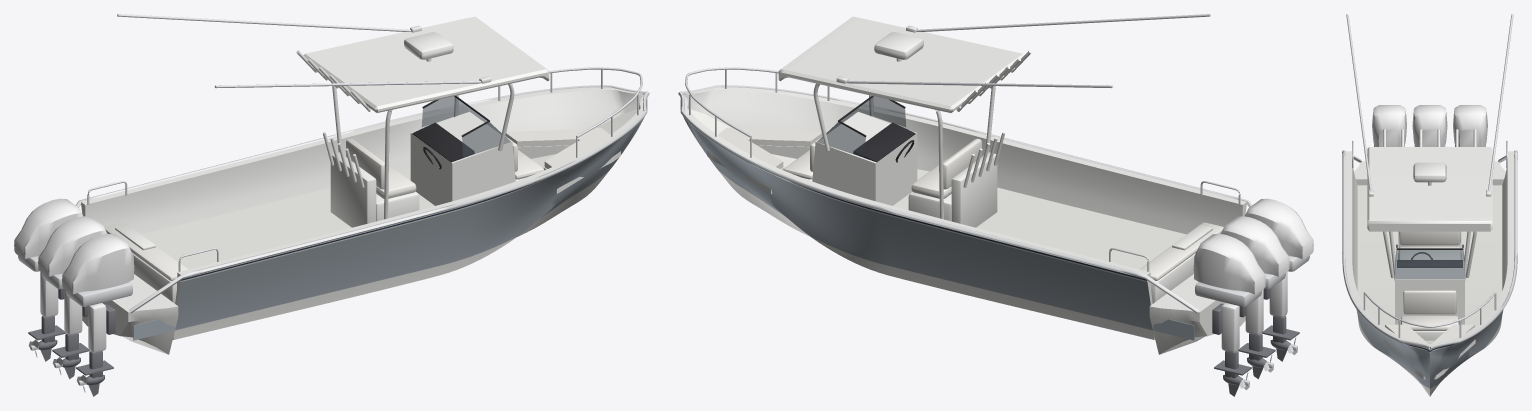
File: dad-big-boat.glb
3 renders of one model, left to right at view 1: azimuth 30°, elevation 25°; view 2: azimuth 150°, elevation 25°; view 3: azimuth 270°, elevation 25°, orthographic. The views are drawn at different scales.
Parts seen in each view (by area): view 1: hull, canopy, console, outboard_stbd_cowl, bracket, rub_rail_-1, tackle_station, outboard_cowl, outboard_port_cowl, windshield, rub_rail_1, console_dash (+15 smaller); view 2: hull, canopy, console, outboard_port_cowl, bracket, rub_rail_1, tackle_station, outboard_cowl, outboard_stbd_cowl, windshield, rub_rail_-1, console_dash (+15 smaller); view 3: hull, canopy, console, windshield, outboard_cowl, console_seat_back, outboard_port_cowl, outboard_stbd_cowl, rub_rail_1, rub_rail_-1, post_back, post_seat (+12 smaller).
Boxes of the visible parts, x1,y1,x2,y2 form: hull: (81,87,647,339); canopy: (303,16,549,112); console: (410,111,515,205); outboard_stbd_cowl: (62,234,134,294); bracket: (82,274,178,354); rub_rail_-1: (129,91,649,313); tackle_station: (330,152,376,227); outboard_cowl: (38,216,107,276); outboard_port_cowl: (14,198,82,259); windshield: (421,96,510,157); rub_rail_1: (75,85,647,207); console_dash: (412,122,474,162); hull: (680,87,1246,339); canopy: (778,16,1024,112); console: (812,111,917,205); outboard_port_cowl: (1193,234,1265,294); bracket: (1149,274,1245,354); rub_rail_1: (678,91,1198,313); tackle_station: (951,152,997,227); outboard_cowl: (1220,216,1289,276); outboard_stbd_cowl: (1245,198,1313,259); windshield: (817,96,906,157); rub_rail_-1: (680,85,1252,207); console_dash: (853,122,915,162); hull: (1345,151,1514,396); canopy: (1367,147,1492,231); console: (1395,260,1464,324); windshield: (1395,250,1464,278); outboard_cowl: (1412,105,1447,146); console_seat_back: (1403,290,1456,314); outboard_port_cowl: (1453,105,1487,146); outboard_stbd_cowl: (1372,105,1406,146); rub_rail_1: (1429,150,1517,349); rub_rail_-1: (1342,150,1430,349); post_back: (1399,231,1460,245); post_seat: (1398,246,1461,259).
Size of the model in its own units: 11.08 by 5.35 by 3.3.
